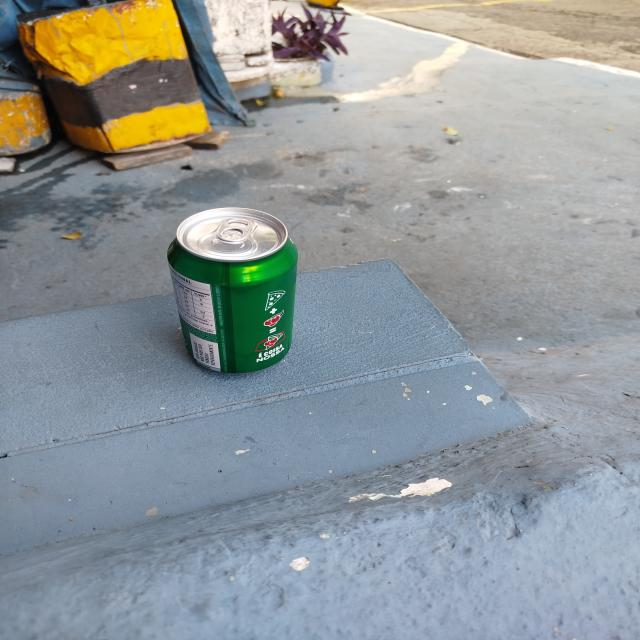Guarana: (168, 208, 297, 368)
